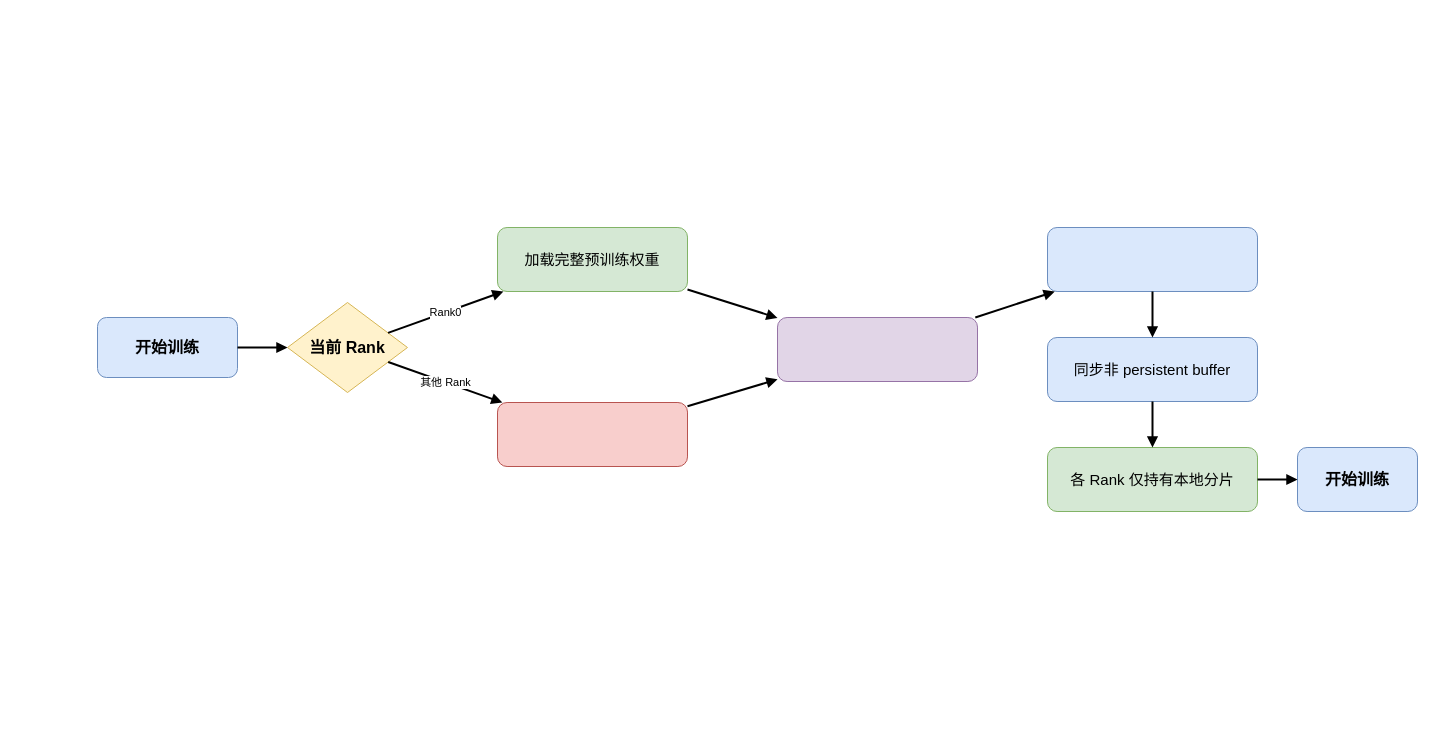
Some shapes in this 1435 by 734 pixel diagram are drawn without their labels. The box of each missing label's shape, as (x1, y1, x2, y2) in pixels:
FSDP2 包裹并切分模型: (776, 316, 978, 382)
基于 config 构建空模型: (496, 402, 688, 466)
由 Rank0 广播分片权重: (1046, 226, 1258, 292)
